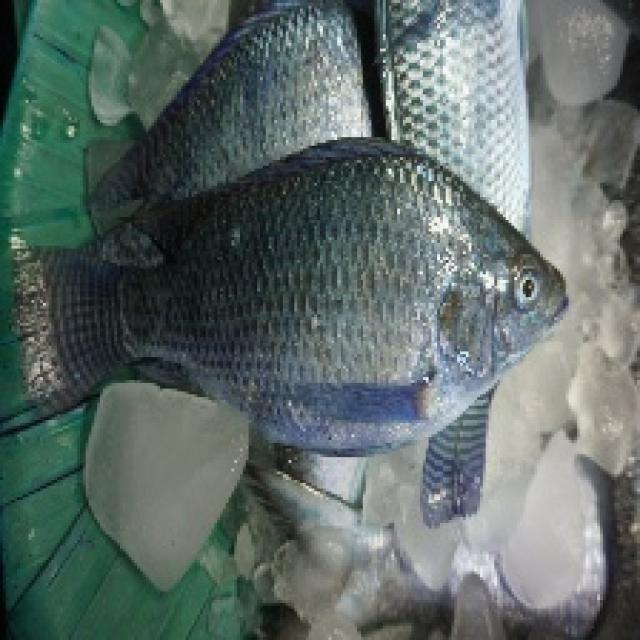Fresh: (127, 145, 579, 452)
